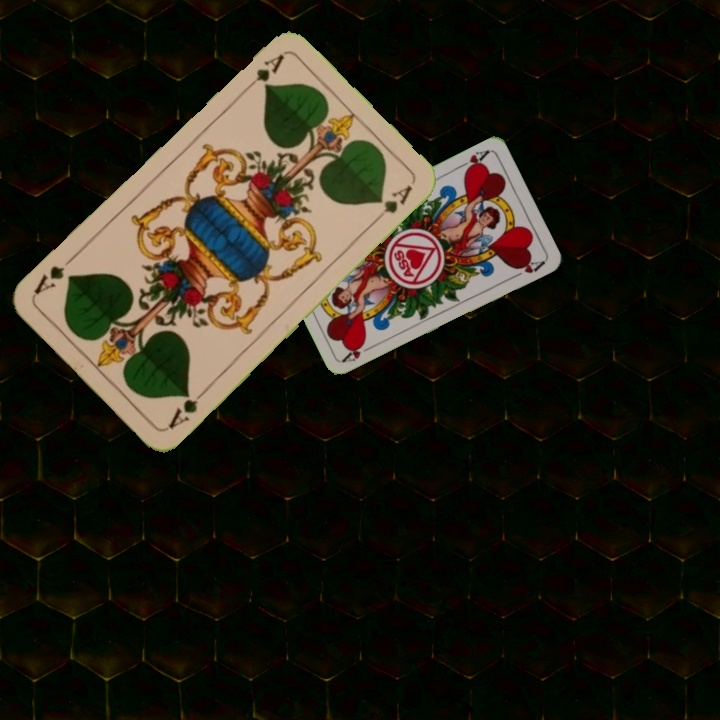GA: (164, 384, 210, 432), (239, 50, 287, 94)
HA: (454, 146, 492, 175), (339, 339, 378, 365)
